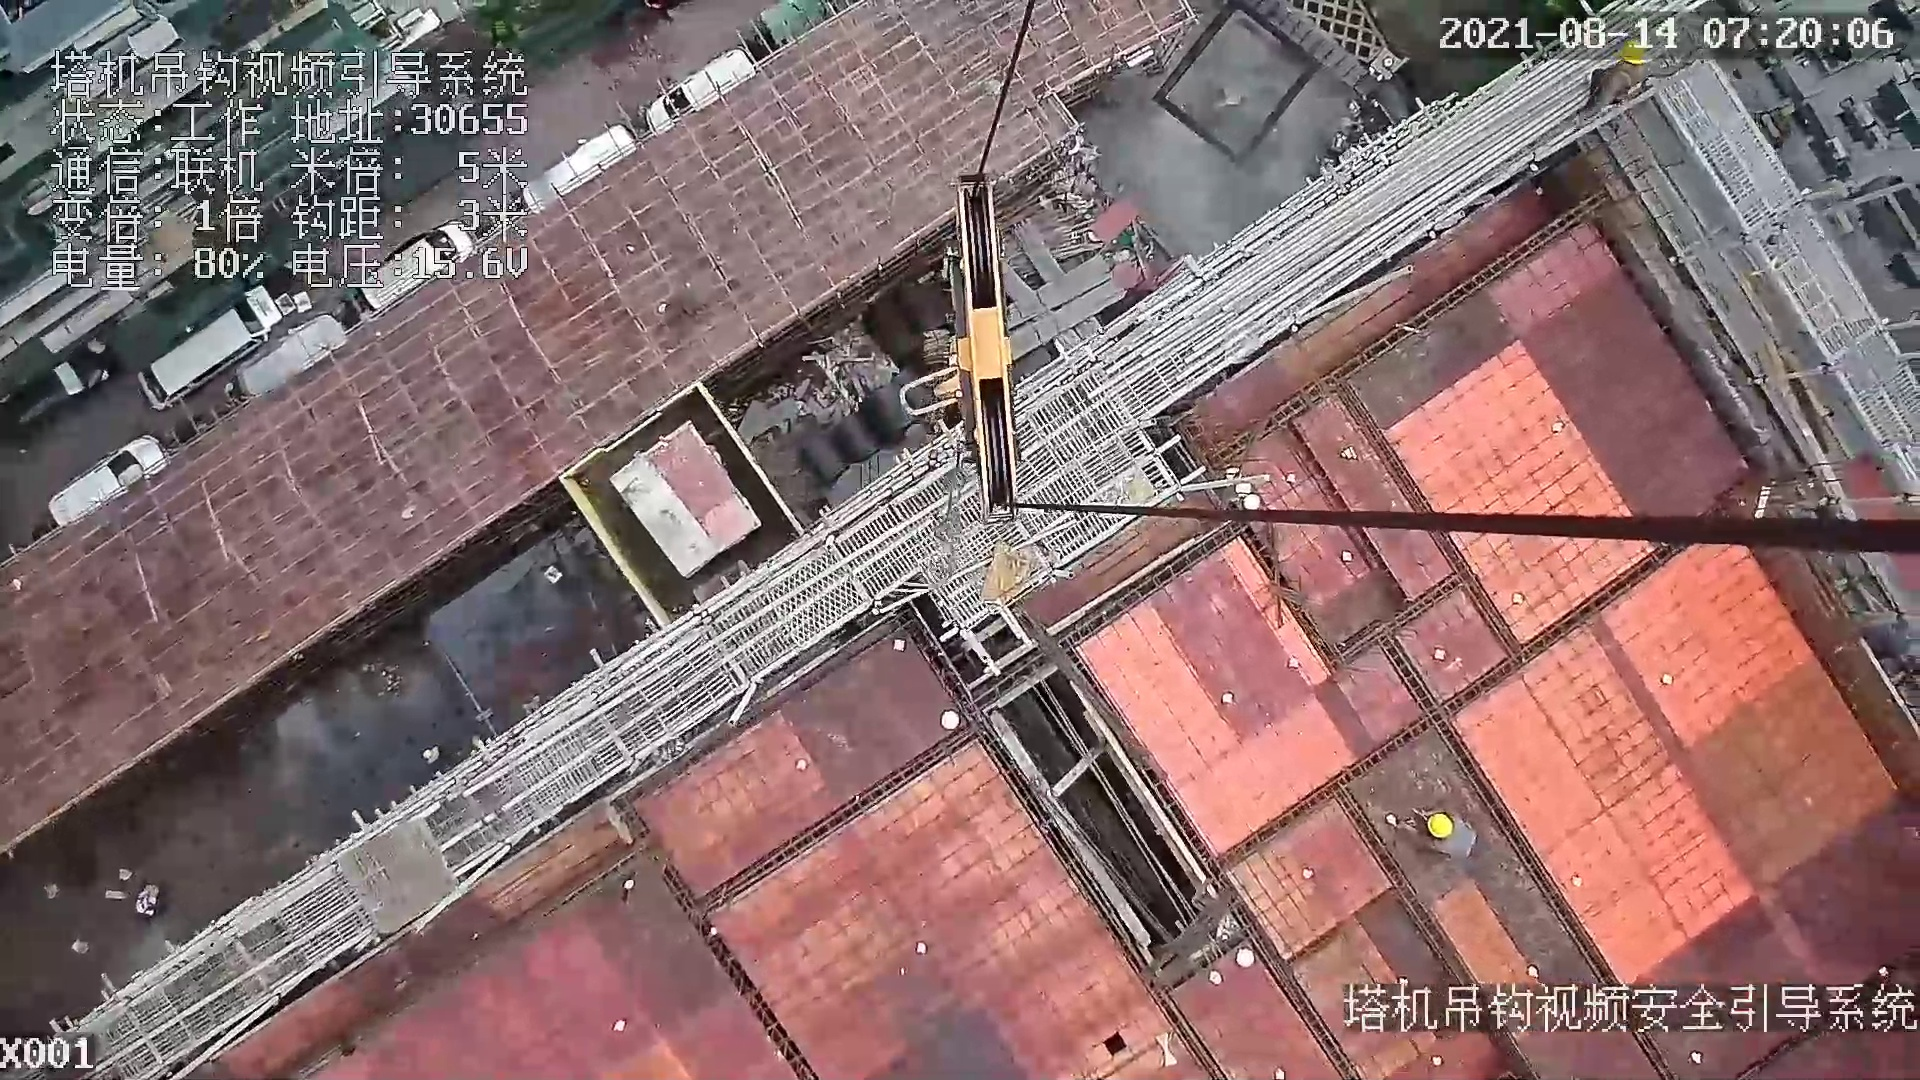helmet: (1423, 808, 1460, 842)
hook: (897, 167, 1028, 513)
person: (1390, 780, 1508, 874), (1590, 44, 1696, 119)
